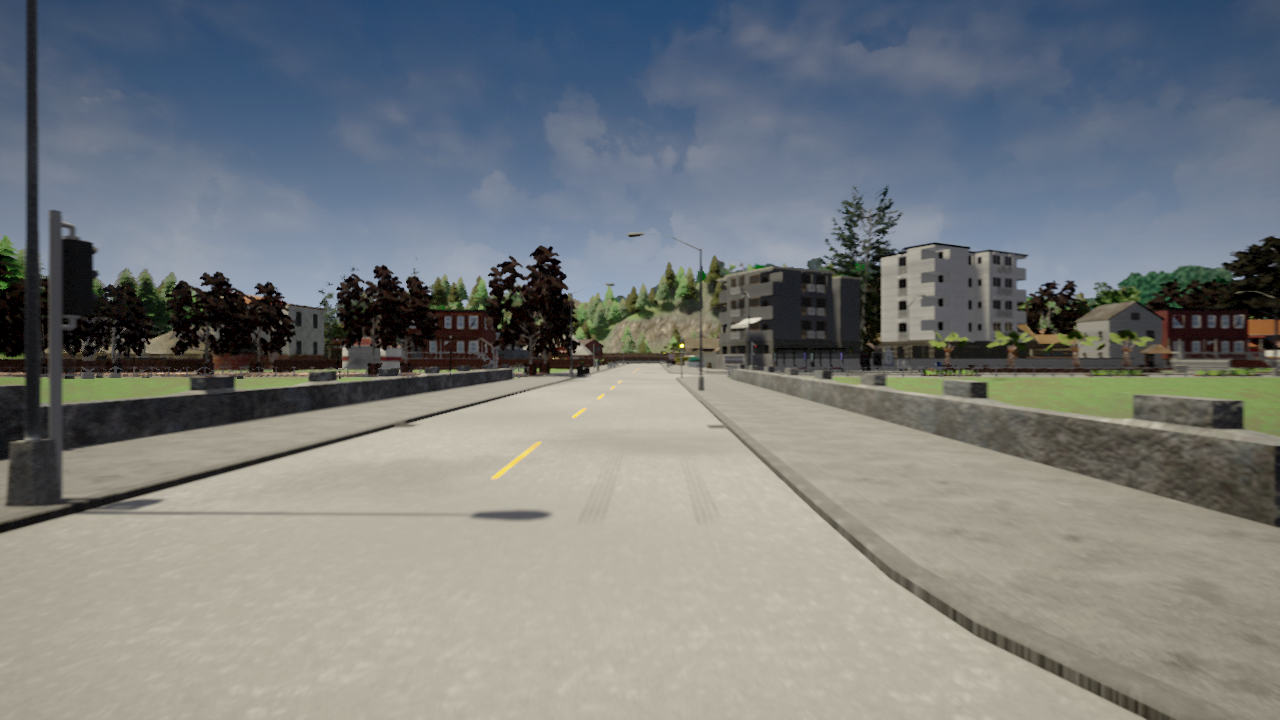yellow: (678, 339, 685, 352)
